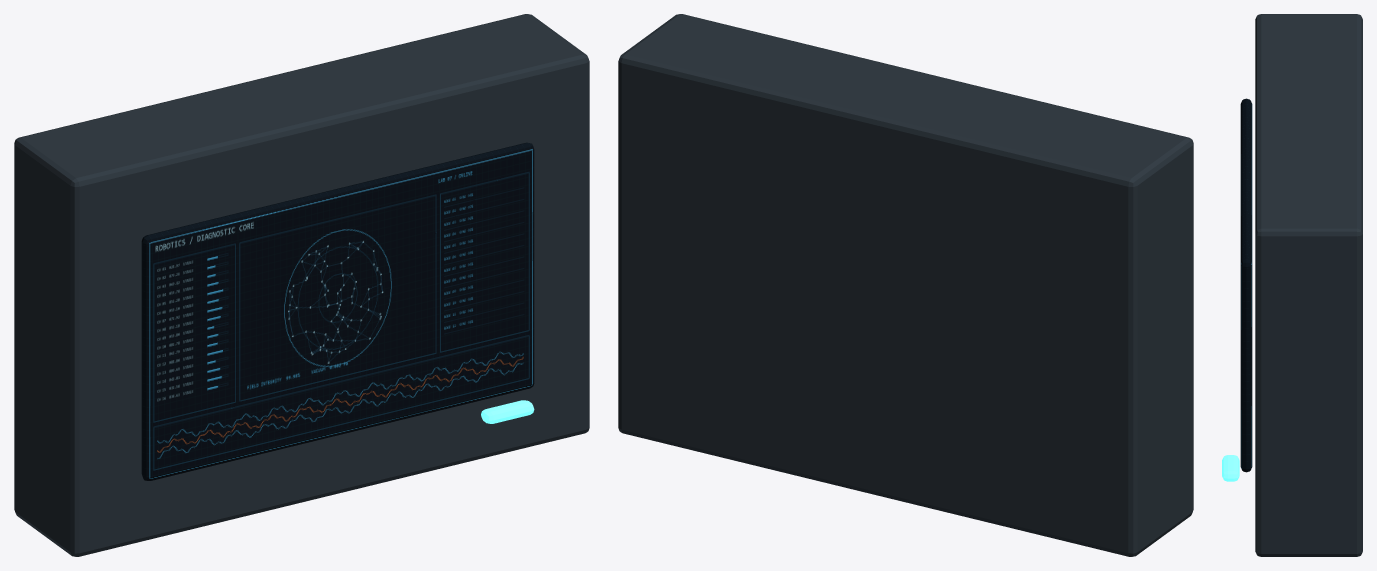
Rendered from SM_Lab_Cart__Display_00.fbx.
The picture shows the model from 3 angles, left to right: view 1: azimuth 30°, elevation 25°; view 2: azimuth 150°, elevation 25°; view 3: azimuth 270°, elevation 25°; orthographic projection. The views are drawn at different scales.
Parts seen in each view (by area): view 1: SM_Lab_Cart__Display_00; view 2: SM_Lab_Cart__Display_00; view 3: SM_Lab_Cart__Display_00.
Part boxes in pixels (x1=…): SM_Lab_Cart__Display_00: x1=14, y1=14, x2=589, y2=556; SM_Lab_Cart__Display_00: x1=618, y1=14, x2=1193, y2=556; SM_Lab_Cart__Display_00: x1=1222, y1=14, x2=1362, y2=556.
Size of the model in its own units: 26.5 by 7.2 by 18.5.
